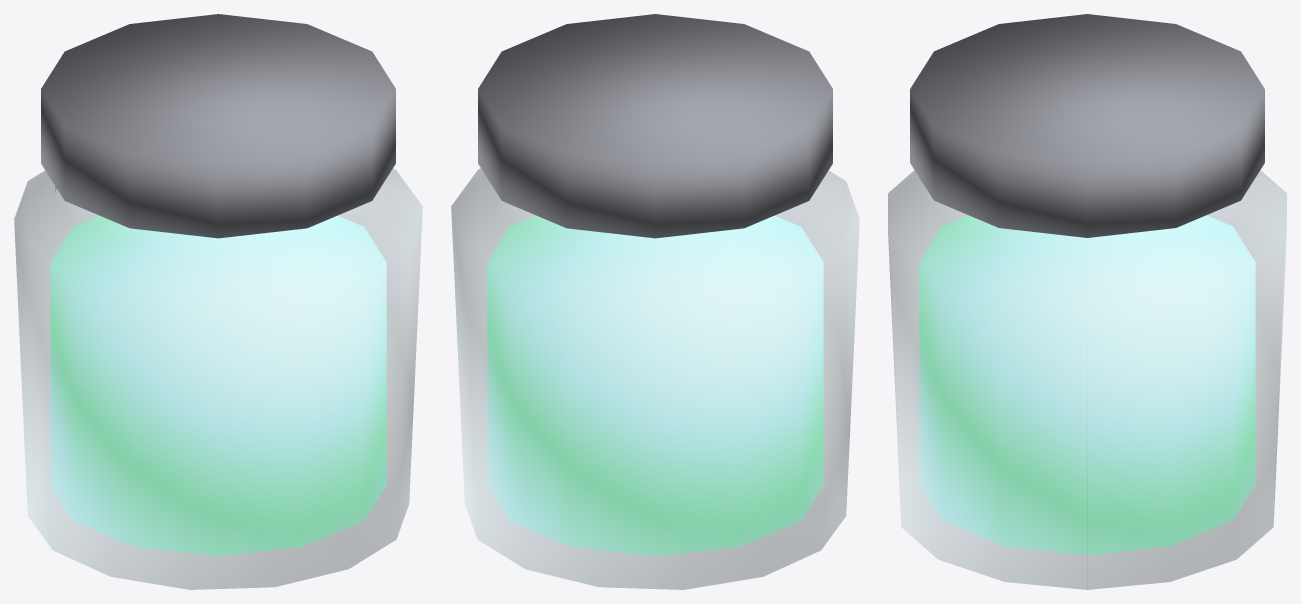
File: potion_jar_potion.glb
3 renders of one model, left to right at view 1: azimuth 30°, elevation 25°; view 2: azimuth 150°, elevation 25°; view 3: azimuth 270°, elevation 25°, orthographic.
Visible parts, largest first — view 1: GD_potion_jar_potion__m0, GD_potion_jar_potion__m1, GD_potion_jar_potion__m2; view 2: GD_potion_jar_potion__m0, GD_potion_jar_potion__m1, GD_potion_jar_potion__m2; view 3: GD_potion_jar_potion__m0, GD_potion_jar_potion__m1, GD_potion_jar_potion__m2.
Boxes of the visible parts, bbox=[...] form: GD_potion_jar_potion__m0: bbox=[14, 168, 422, 589]; GD_potion_jar_potion__m1: bbox=[50, 215, 386, 556]; GD_potion_jar_potion__m2: bbox=[41, 14, 395, 238]; GD_potion_jar_potion__m0: bbox=[451, 168, 859, 589]; GD_potion_jar_potion__m1: bbox=[487, 215, 823, 556]; GD_potion_jar_potion__m2: bbox=[478, 14, 832, 238]; GD_potion_jar_potion__m0: bbox=[888, 170, 1286, 589]; GD_potion_jar_potion__m1: bbox=[919, 215, 1255, 555]; GD_potion_jar_potion__m2: bbox=[910, 14, 1264, 237].
Bounding box in the file's own units: 0.15 × 0.17 × 0.1462.
